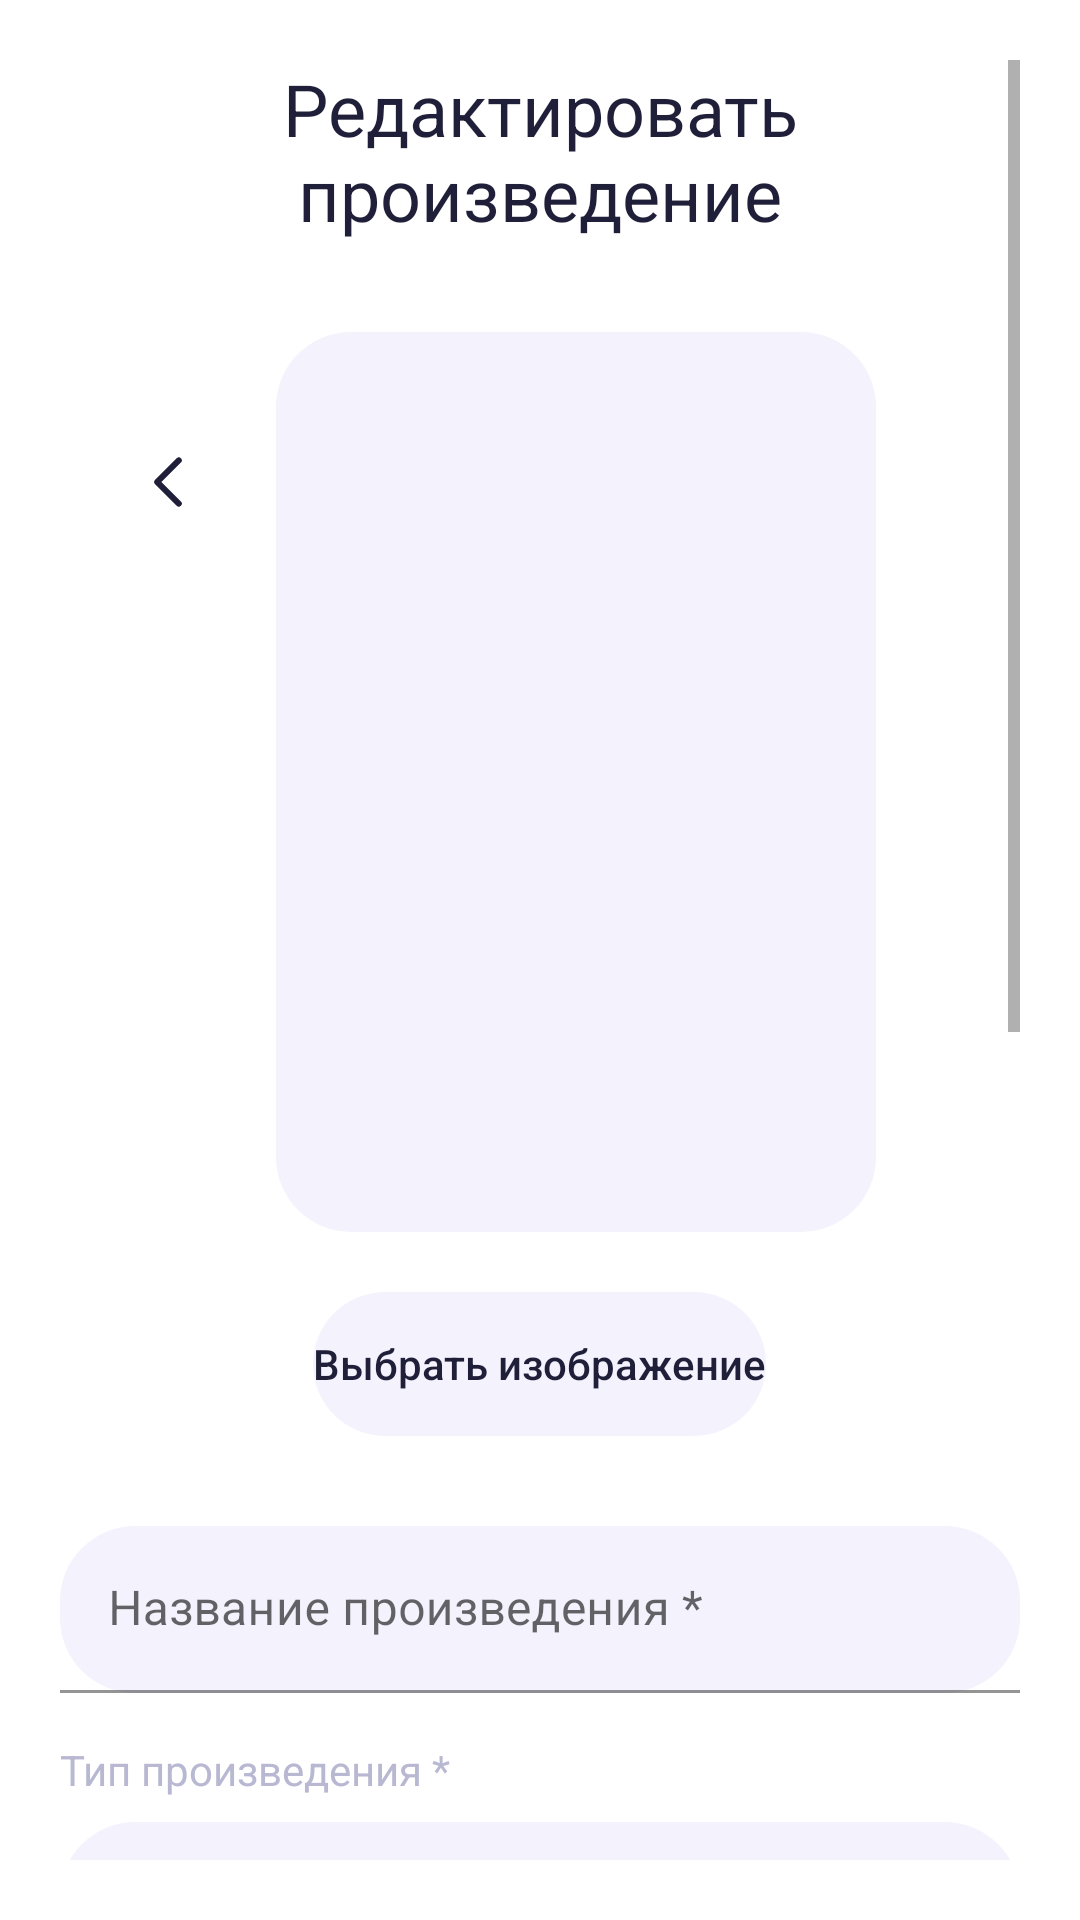

Named icons in this screenshot (1080×1920) and their centers, point (x, y):
back: point (168, 482)
